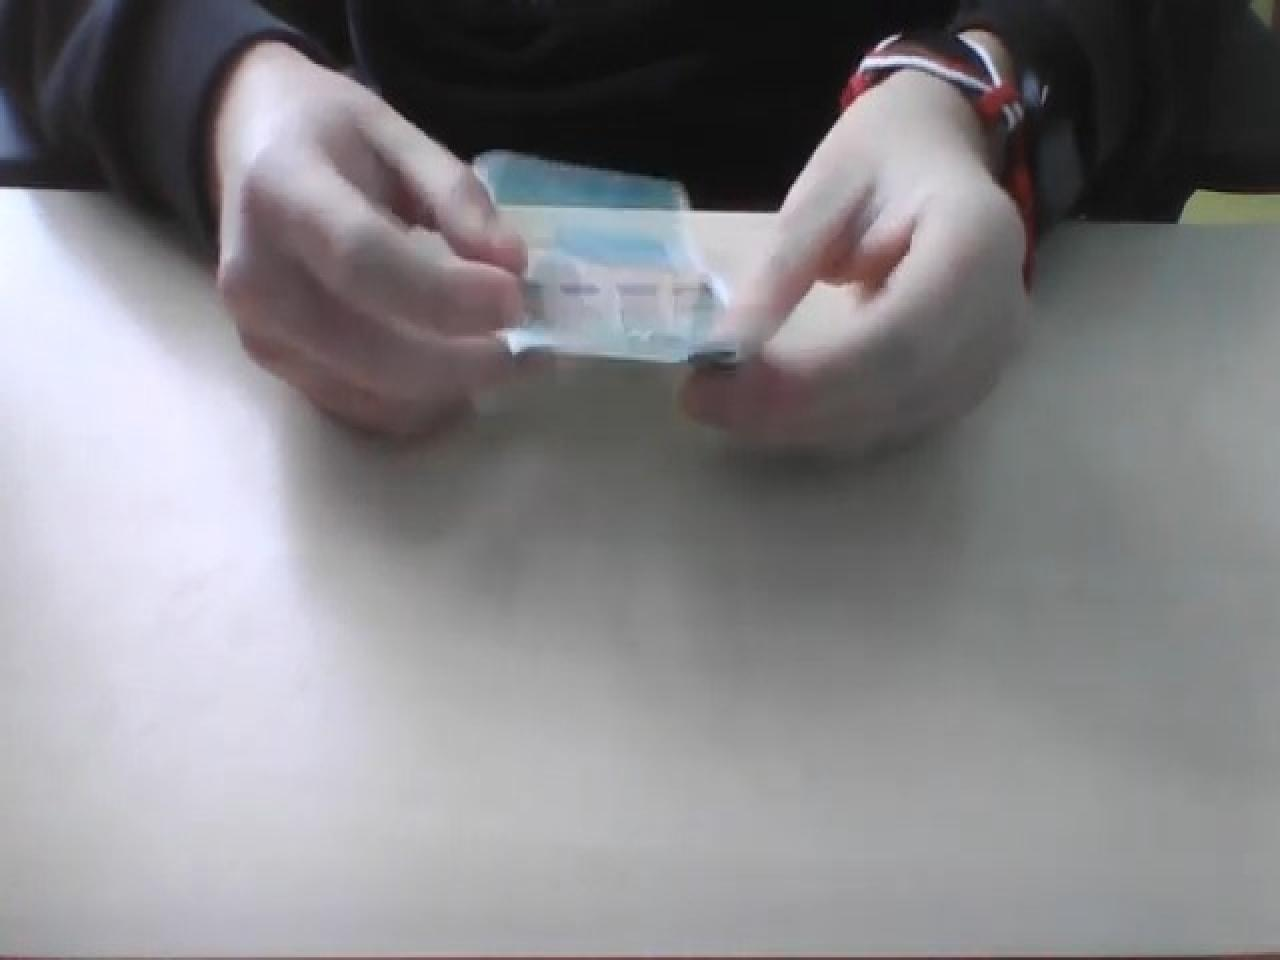100leva: (464, 144, 746, 373)
